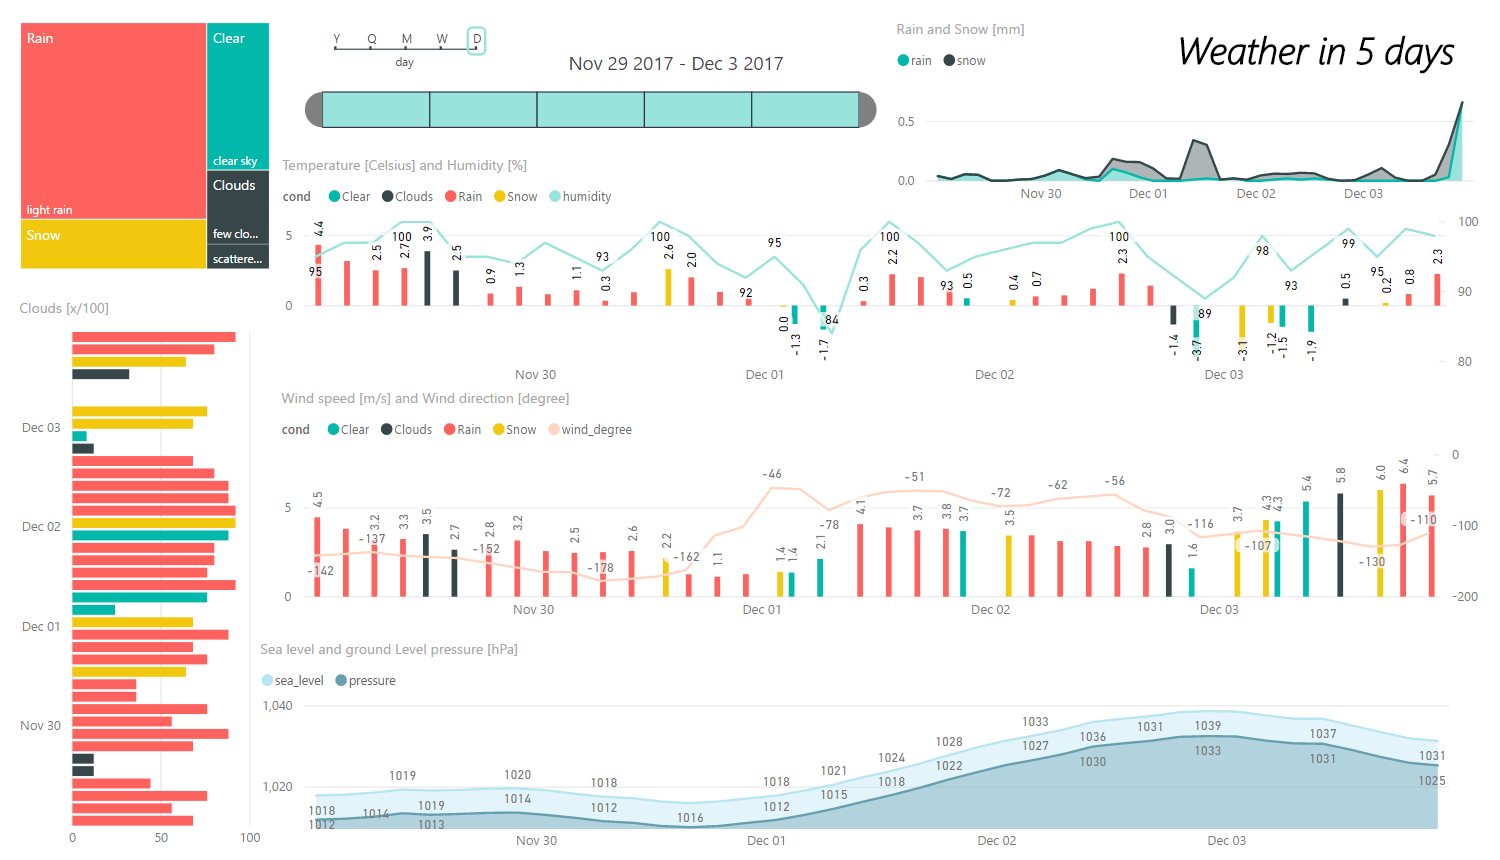

This screenshot's page, from the dashboard's own definition file:
{"tool":"powerbi","page":{"name":"weather forcast","canvas":[1280,720],"ordinal":1},"visuals":[{"type":"lineClusteredColumnComboChart","fields":{"Y2":["Sum(weatherData.humidity)"],"Y":["Sum(weatherData.temperature)"],"Series":["weatherData.cond"],"Category":["weatherData.client_time"]},"box":[236.8,117.6,1030.3,204.8],"z":0},{"type":"treemap","fields":{"Group":["weatherData.cond"],"Details":["weatherData.condition"],"Values":["CountNonNull(weatherData.condition)"]},"box":[13.7,0,222.9,219.4],"z":6},{"type":"stackedAreaChart","fields":{"Category":["weatherData.client_time"],"Y":["Sum(weatherData.rain)","Sum(weatherData.snow)"]},"box":[760.8,1.6,509.8,166.3],"z":8},{"type":"textbox","box":[1000.1,0,279.9,59.4],"z":9},{"type":"lineClusteredColumnComboChart","fields":{"Y":["Sum(weatherData.wind_speed)"],"Y2":["Sum(weatherData.wind_degree)"],"Series":["weatherData.cond"],"Category":["weatherData.client_time"]},"box":[236,316.4,1031.2,206.6],"z":2000},{"type":"areaChart","fields":{"Category":["weatherData.client_time"],"Y":["Sum(weatherData.sea_level)","Sum(weatherData.pressure)"]},"box":[218.7,530.7,1030.3,189.3],"z":3000},{"type":"Timeline1447991079100","fields":{"Time":["weatherData.client_time"]},"box":[255.7,0,512.9,120.8],"z":4000},{"type":"barChart","fields":{"Y":["Sum(weatherData.clouds)"],"Series":["weatherData.cond"],"Category":["weatherData.client_time"]},"box":[12.8,239.6,215.7,477.5],"z":5000}]}

Visuals, with their boxes in screenshot pixels (x1, y1, x2, y2), scaled from the page's 1280x720 canvas onto the 1500x860 screenshot:
lineClusteredColumnComboChart - Sum(weatherData.humidity) x Sum(weatherData.temperature): detection(278, 140, 1485, 385)
treemap - weatherData.cond x weatherData.condition: detection(16, 0, 277, 262)
stackedAreaChart - weatherData.client_time x Sum(weatherData.rain): detection(892, 2, 1489, 201)
textbox: detection(1172, 0, 1499, 71)
lineClusteredColumnComboChart - Sum(weatherData.wind_speed) x Sum(weatherData.wind_degree): detection(277, 378, 1485, 625)
areaChart - weatherData.client_time x Sum(weatherData.sea_level): detection(256, 634, 1464, 859)
Timeline1447991079100 - weatherData.client_time: detection(300, 0, 901, 144)
barChart - Sum(weatherData.clouds) x weatherData.cond: detection(15, 286, 268, 857)
